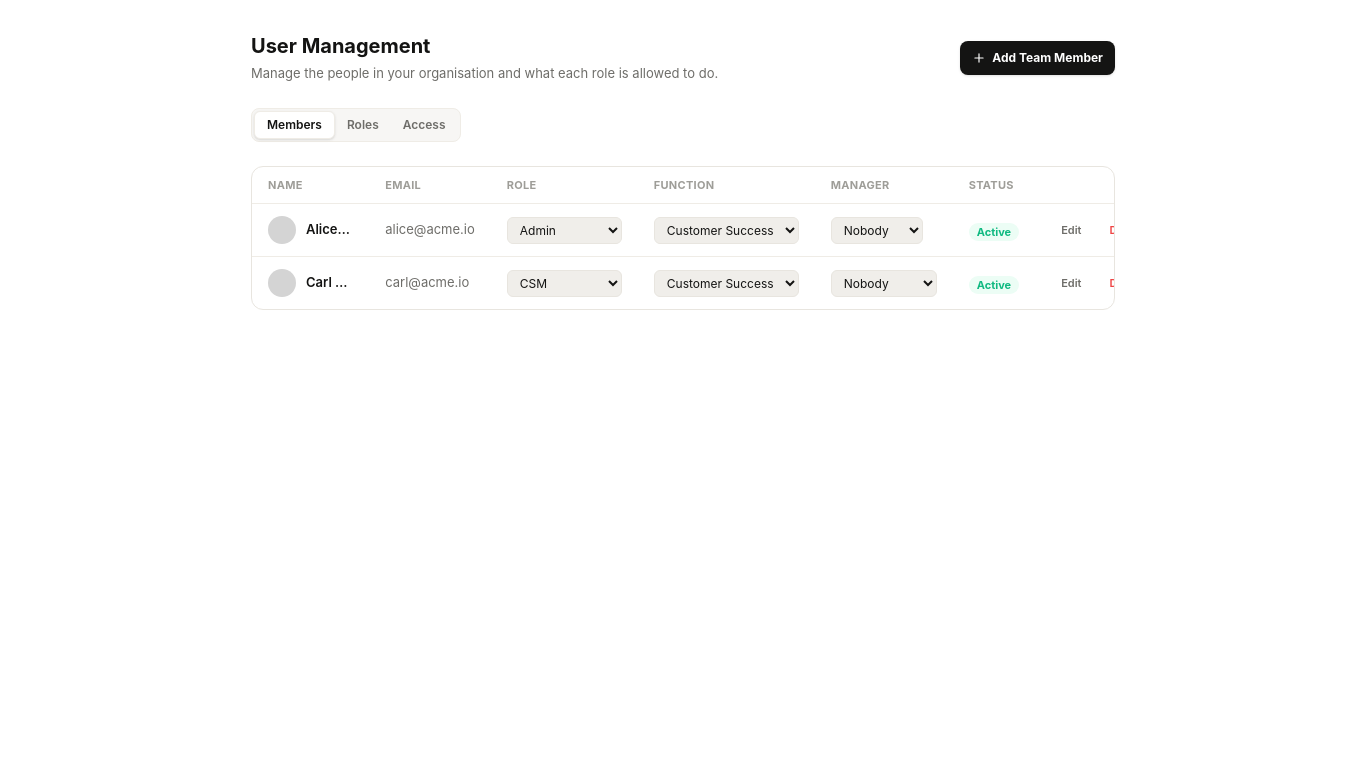
Test case: UserManagement page — Roles tab › a custom role can be deleted, and offers a real confirm first
Click the button "roles": [363, 124] box [335, 110, 391, 138]
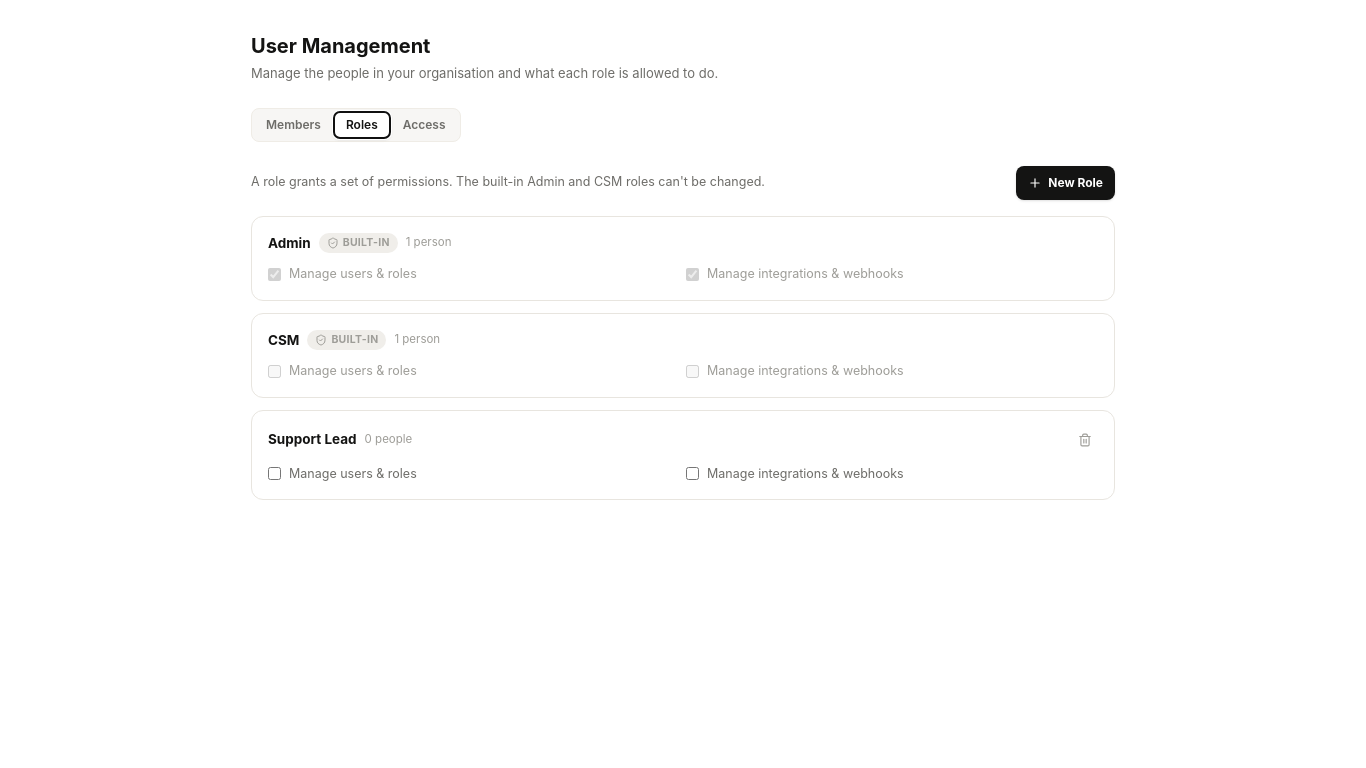
Click the button named "Delete Support Lead": [1085, 440] box [1072, 426, 1098, 452]
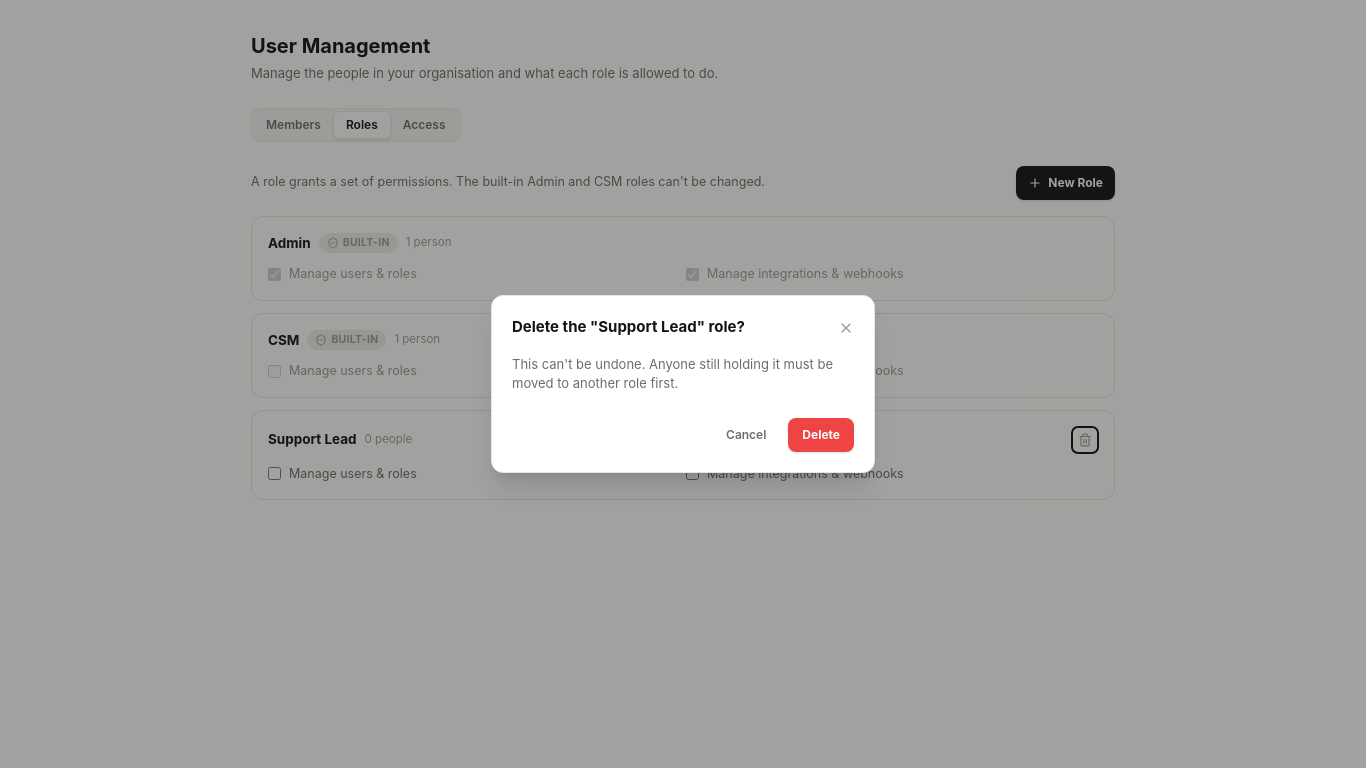
Click the button "Delete": [821, 435] box [788, 418, 854, 452]
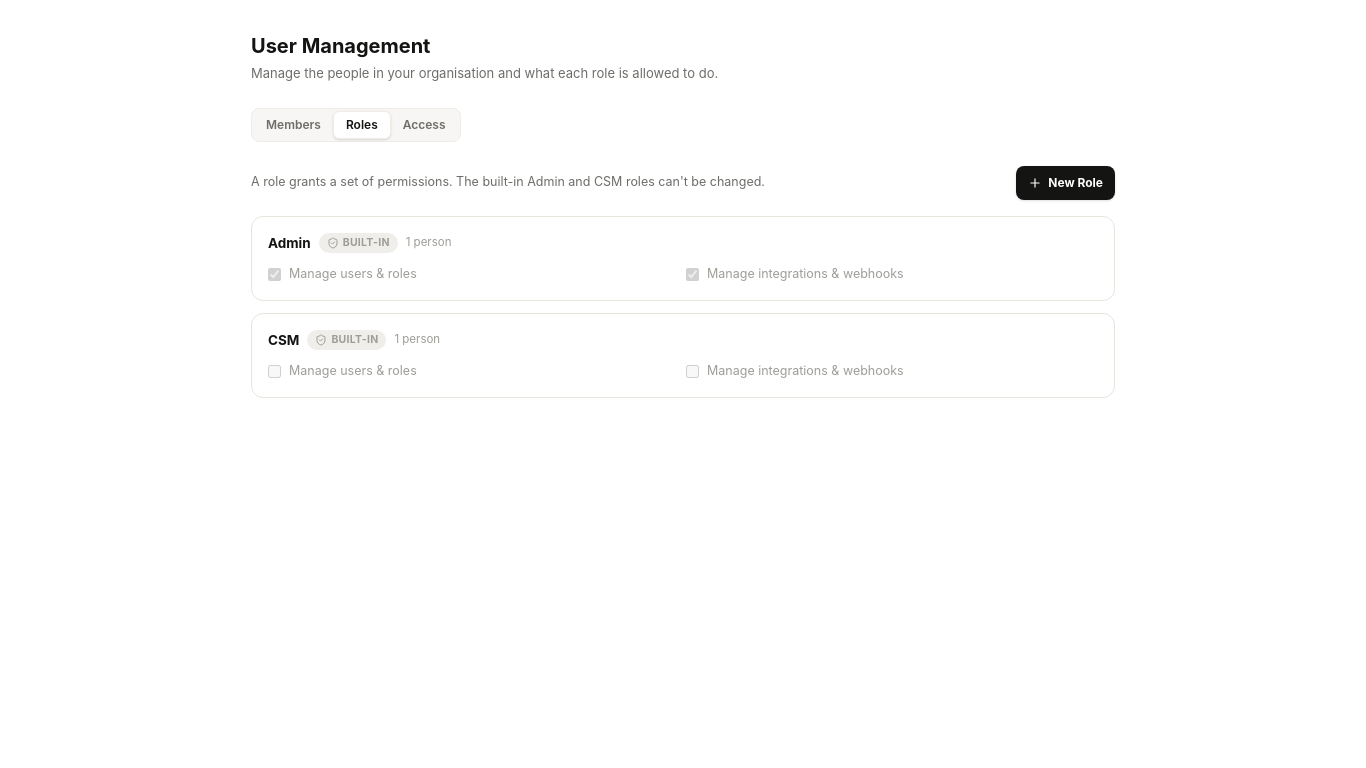
Check: the text "Support Lead" is gone
